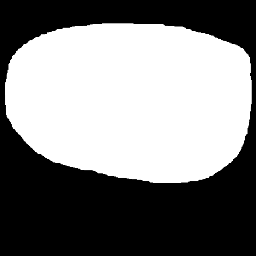mass: (11, 33, 244, 170)
